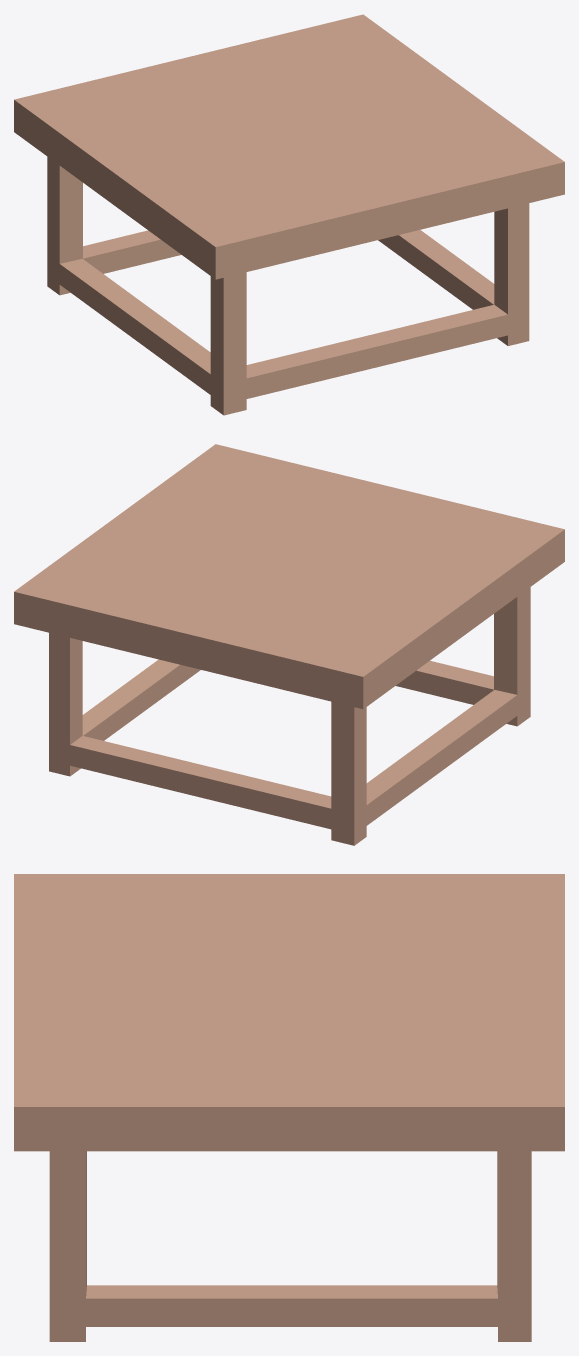
File: smelty_table.fbx
3 views of the same model, one above another, from view 1: azimuth 30°, elevation 25°; view 2: azimuth 150°, elevation 25°; view 3: azimuth 270°, elevation 25° (orthographic). The views are drawn at different scales.
Visible parts, largest first — view 1: table; view 2: table; view 3: table.
Part boxes in pixels (x1=…): table: x1=14, y1=14, x2=564, y2=415; table: x1=14, y1=444, x2=564, y2=845; table: x1=14, y1=874, x2=564, y2=1341.
Size of the model in its own units: 200 by 100 by 200.
